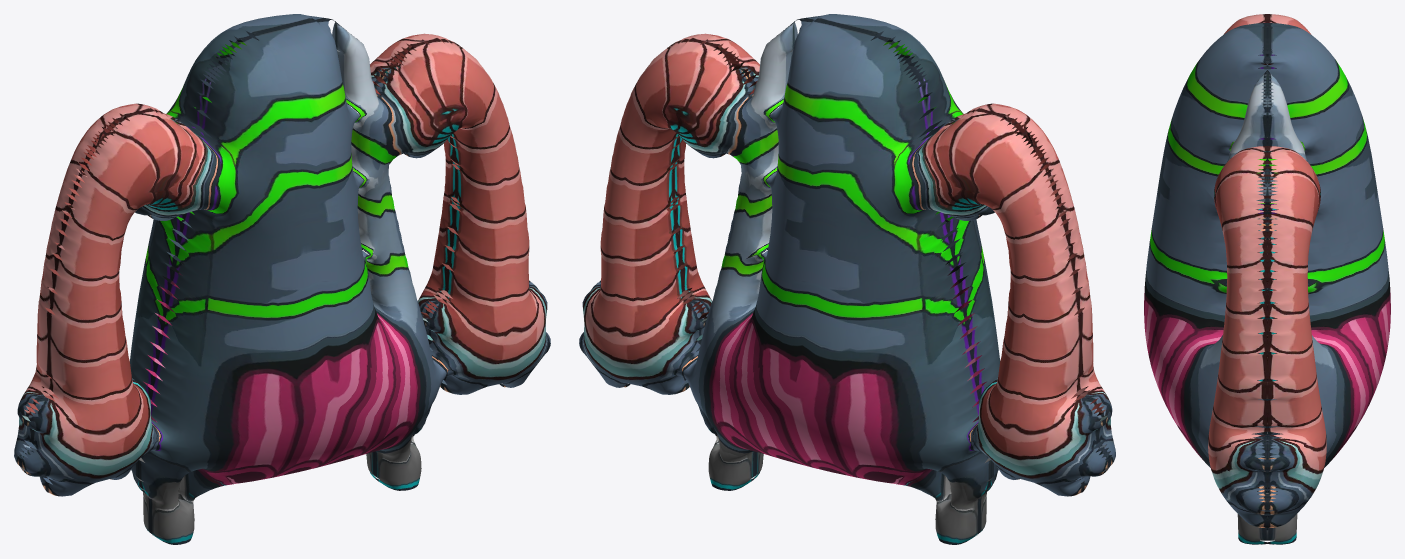
File: hose_generator.glb
3 renders of one model, left to right at view 1: azimuth 30°, elevation 25°; view 2: azimuth 150°, elevation 25°; view 3: azimuth 270°, elevation 25°, orthographic. The views are drawn at different scales.
Visible parts, largest first — view 1: hose_generator; view 2: hose_generator; view 3: hose_generator.
Boxes of the visible parts, <box> form: hose_generator: <box>14,14,550,544</box>; hose_generator: <box>579,14,1115,544</box>; hose_generator: <box>1144,14,1390,544</box>.
Size of the model in its own units: 0.989 by 0.8625 by 0.4309.
1 material, 1 textured.
